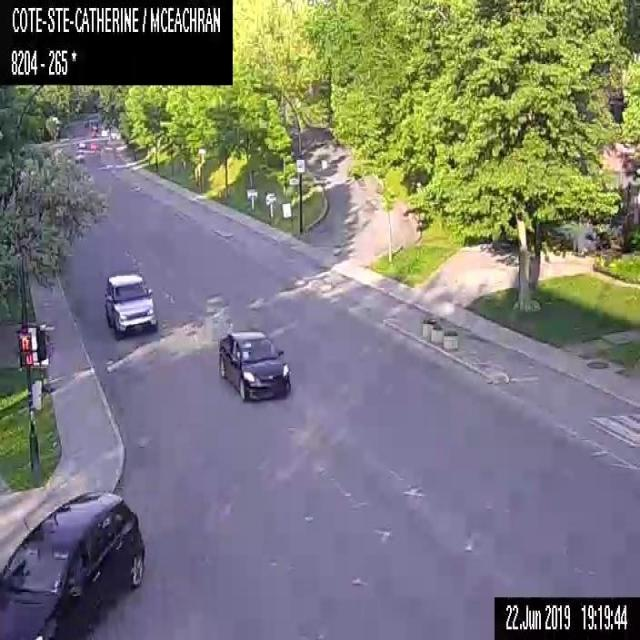vehicle: (0, 489, 146, 638), (218, 328, 292, 400), (104, 271, 156, 340), (74, 149, 84, 161), (78, 138, 86, 148), (90, 139, 98, 149)
